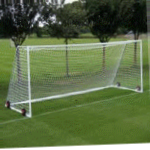goals: (6, 38, 146, 119)
